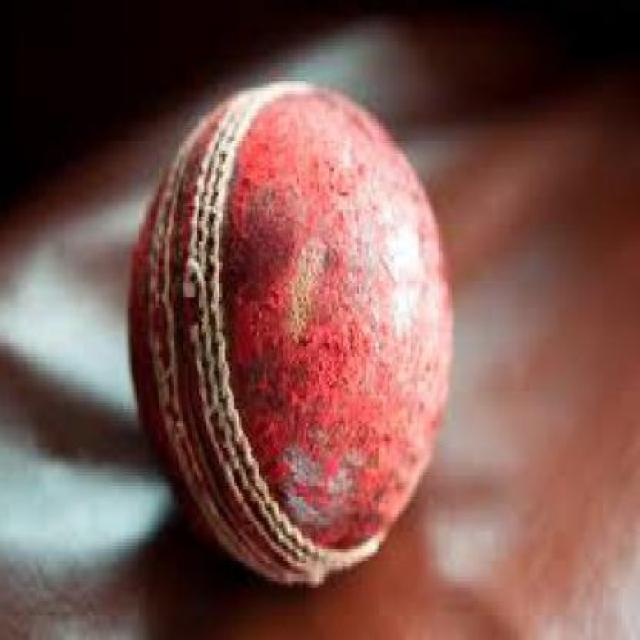ball: (94, 60, 490, 620)
